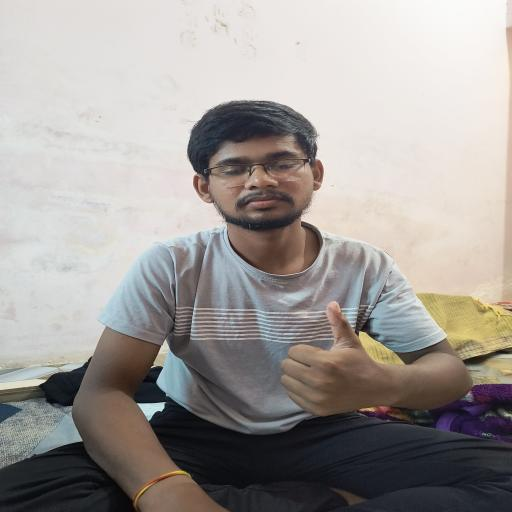Good Morning: (256, 300, 413, 428)
